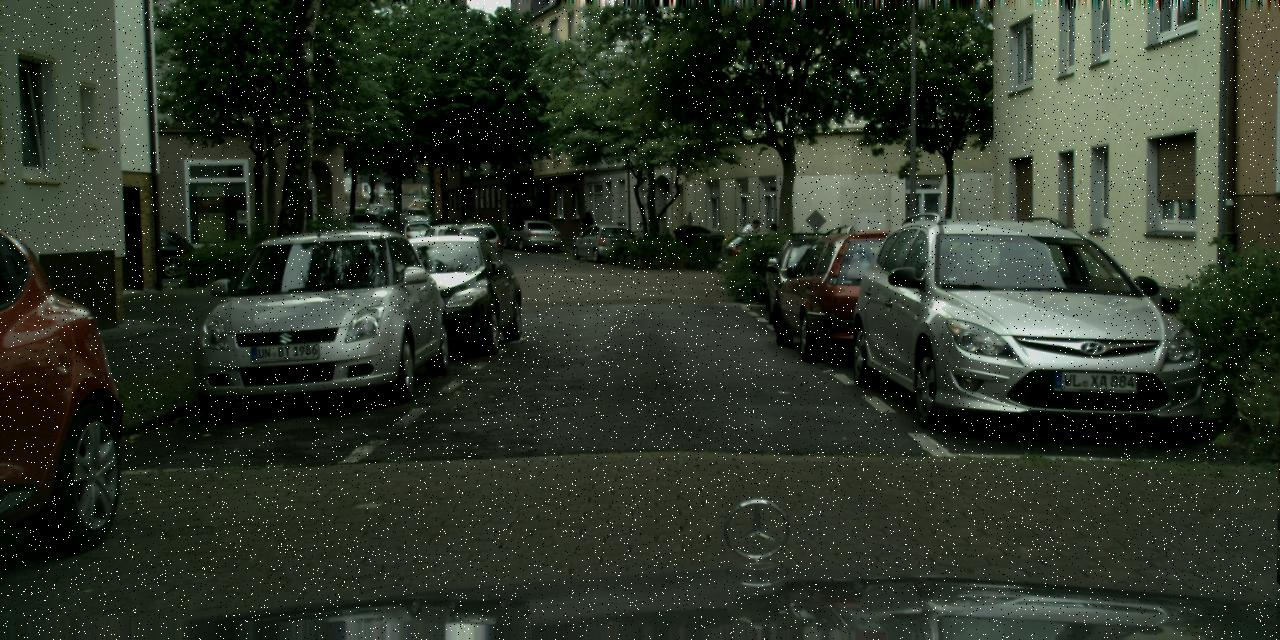ped: (740, 219, 760, 269), (761, 223, 780, 270), (579, 211, 595, 251)
